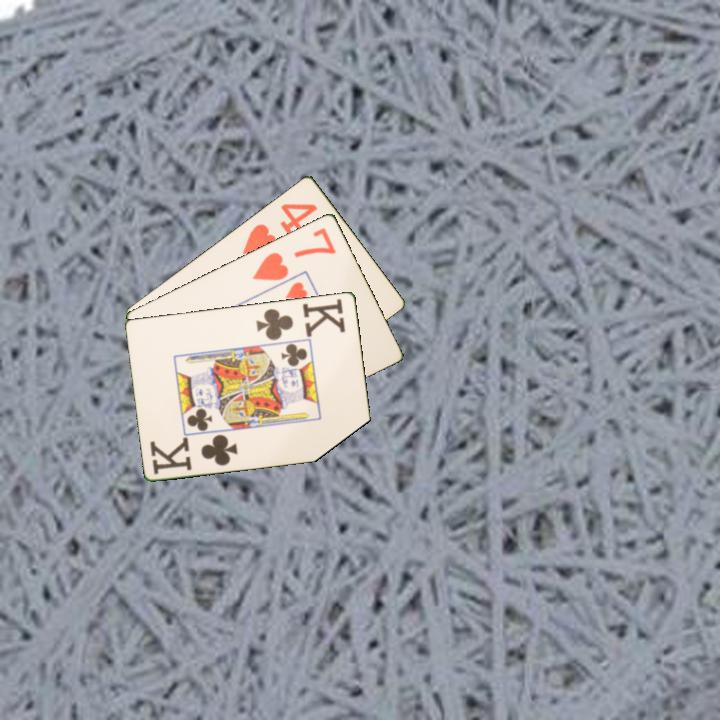4h: (239, 199, 321, 257)
7h: (249, 224, 339, 283)
Kc: (253, 295, 349, 343), (147, 430, 241, 477)
